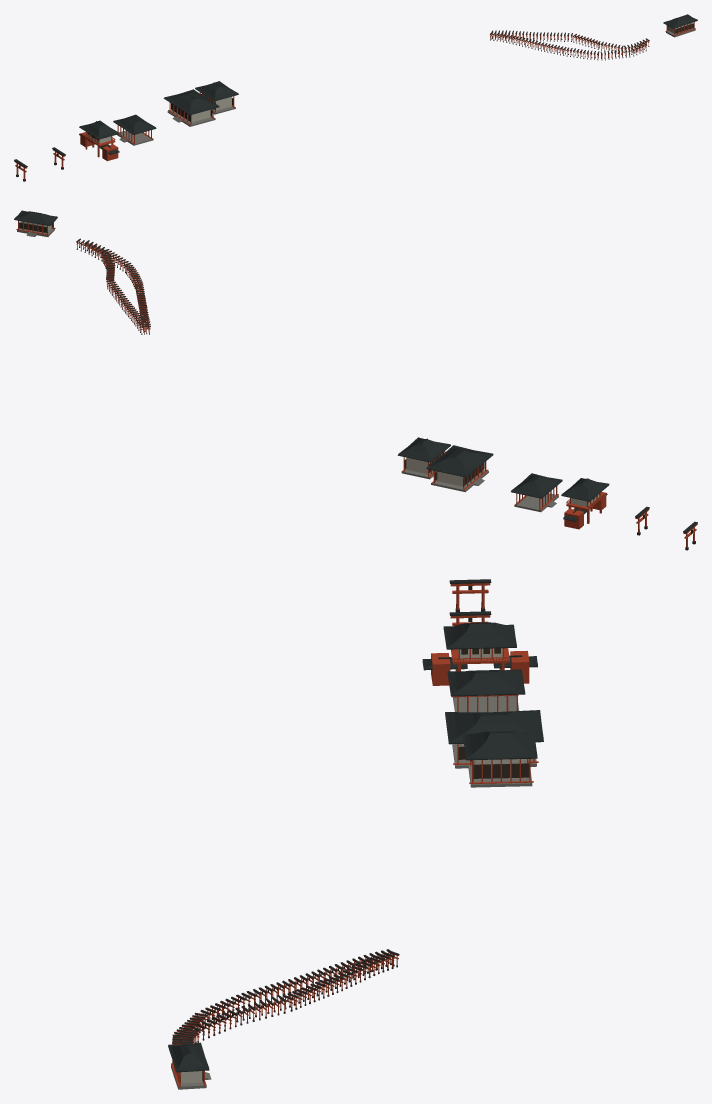
The model's file is inari.glb.
3 renders of one model, top to bottom at view 1: azimuth 30°, elevation 25°; view 2: azimuth 150°, elevation 25°; view 3: azimuth 270°, elevation 25°, orthographic. The views are drawn at different scales.
Size of the model in its own units: 318 by 34.92 by 85.34.
